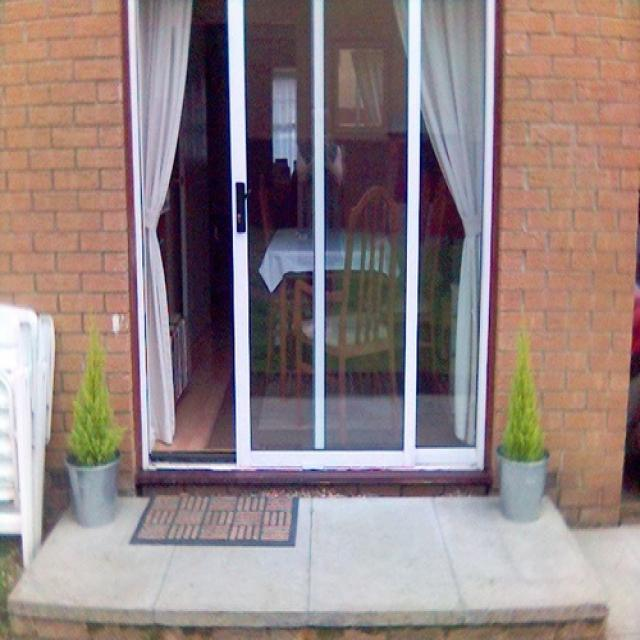chair: (294, 182, 400, 446), (255, 177, 328, 403), (376, 178, 448, 398)
pottedplant: (66, 314, 123, 529), (497, 326, 548, 521)
